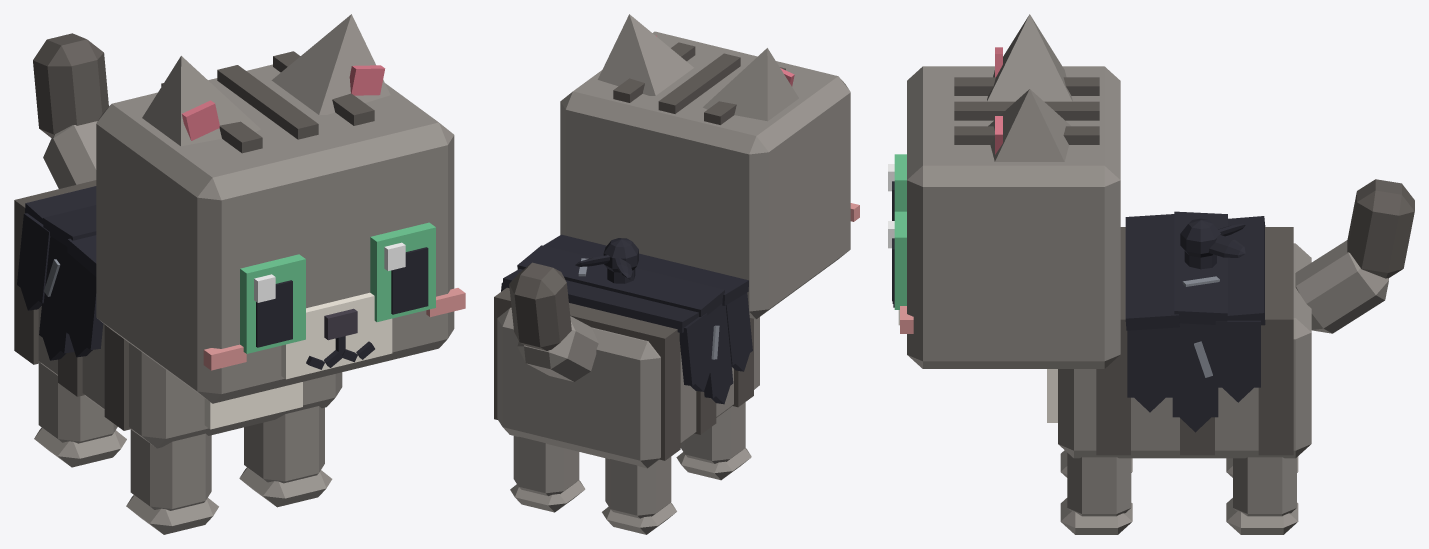
File: CatCafe_Cat_Binbag.glb
3 views of the same model, side by side, from view 1: azimuth 30°, elevation 25°; view 2: azimuth 150°, elevation 25°; view 3: azimuth 270°, elevation 25° (orthographic). The views are drawn at different scales.
Visible parts, largest first — view 1: CatCafe_Cat_Binbag_Head, CatCafe_Cat_Binbag_Body, CatCafe_Cat_Binbag_Prop, CatCafe_Cat_Binbag_Tail, CatCafe_Cat_Binbag_LegF2, CatCafe_Cat_Binbag_LegF1, CatCafe_Cat_Binbag_EarL, CatCafe_Cat_Binbag_Eye2, CatCafe_Cat_Binbag_Eye1, CatCafe_Cat_Binbag_LegB2, CatCafe_Cat_Binbag_EarR; view 2: CatCafe_Cat_Binbag_Head, CatCafe_Cat_Binbag_Body, CatCafe_Cat_Binbag_Prop, CatCafe_Cat_Binbag_Tail, CatCafe_Cat_Binbag_LegB2, CatCafe_Cat_Binbag_LegB1, CatCafe_Cat_Binbag_EarL, CatCafe_Cat_Binbag_EarR, CatCafe_Cat_Binbag_LegF2; view 3: CatCafe_Cat_Binbag_Head, CatCafe_Cat_Binbag_Prop, CatCafe_Cat_Binbag_Body, CatCafe_Cat_Binbag_Tail, CatCafe_Cat_Binbag_LegF1, CatCafe_Cat_Binbag_LegB1, CatCafe_Cat_Binbag_EarR, CatCafe_Cat_Binbag_EarL, CatCafe_Cat_Binbag_Eye1, CatCafe_Cat_Binbag_Eye2.
Boxes of the visible parts, box(x1,y1,x2,y2) form: CatCafe_Cat_Binbag_Head: box(96, 51, 465, 403); CatCafe_Cat_Binbag_Body: box(14, 180, 342, 448); CatCafe_Cat_Binbag_Prop: box(17, 186, 103, 360); CatCafe_Cat_Binbag_Tail: box(33, 33, 108, 188); CatCafe_Cat_Binbag_LegF2: box(126, 429, 218, 534); CatCafe_Cat_Binbag_LegF1: box(239, 406, 332, 507); CatCafe_Cat_Binbag_EarL: box(271, 14, 390, 115); CatCafe_Cat_Binbag_Eye2: box(240, 254, 305, 353); CatCafe_Cat_Binbag_Eye1: box(370, 222, 435, 321); CatCafe_Cat_Binbag_LegB2: box(34, 363, 126, 467); CatCafe_Cat_Binbag_EarR: box(142, 56, 260, 146); CatCafe_Cat_Binbag_Head: box(560, 31, 859, 319); CatCafe_Cat_Binbag_Body: box(494, 287, 759, 468); CatCafe_Cat_Binbag_Prop: box(501, 234, 752, 404); CatCafe_Cat_Binbag_Tail: box(509, 262, 598, 381); CatCafe_Cat_Binbag_LegB2: box(602, 456, 676, 534); CatCafe_Cat_Binbag_LegB1: box(510, 436, 585, 512); CatCafe_Cat_Binbag_EarL: box(597, 14, 693, 95); CatCafe_Cat_Binbag_EarR: box(703, 48, 798, 121); CatCafe_Cat_Binbag_LegF2: box(676, 402, 751, 480); CatCafe_Cat_Binbag_Head: box(892, 66, 1120, 368); CatCafe_Cat_Binbag_Prop: box(1125, 211, 1265, 432); CatCafe_Cat_Binbag_Body: box(1047, 227, 1311, 458); CatCafe_Cat_Binbag_Tail: box(1295, 179, 1414, 333); CatCafe_Cat_Binbag_LegF1: box(1060, 453, 1132, 534); CatCafe_Cat_Binbag_LegB1: box(1226, 457, 1298, 534); CatCafe_Cat_Binbag_EarR: box(987, 14, 1072, 101); CatCafe_Cat_Binbag_EarL: box(988, 89, 1070, 161); CatCafe_Cat_Binbag_Eye1: box(888, 211, 906, 309); CatCafe_Cat_Binbag_Eye2: box(888, 154, 906, 220).
Size of the model in its own units: 1 by 1.86 by 1.97.
Materials: 1 (1 with a texture image).
